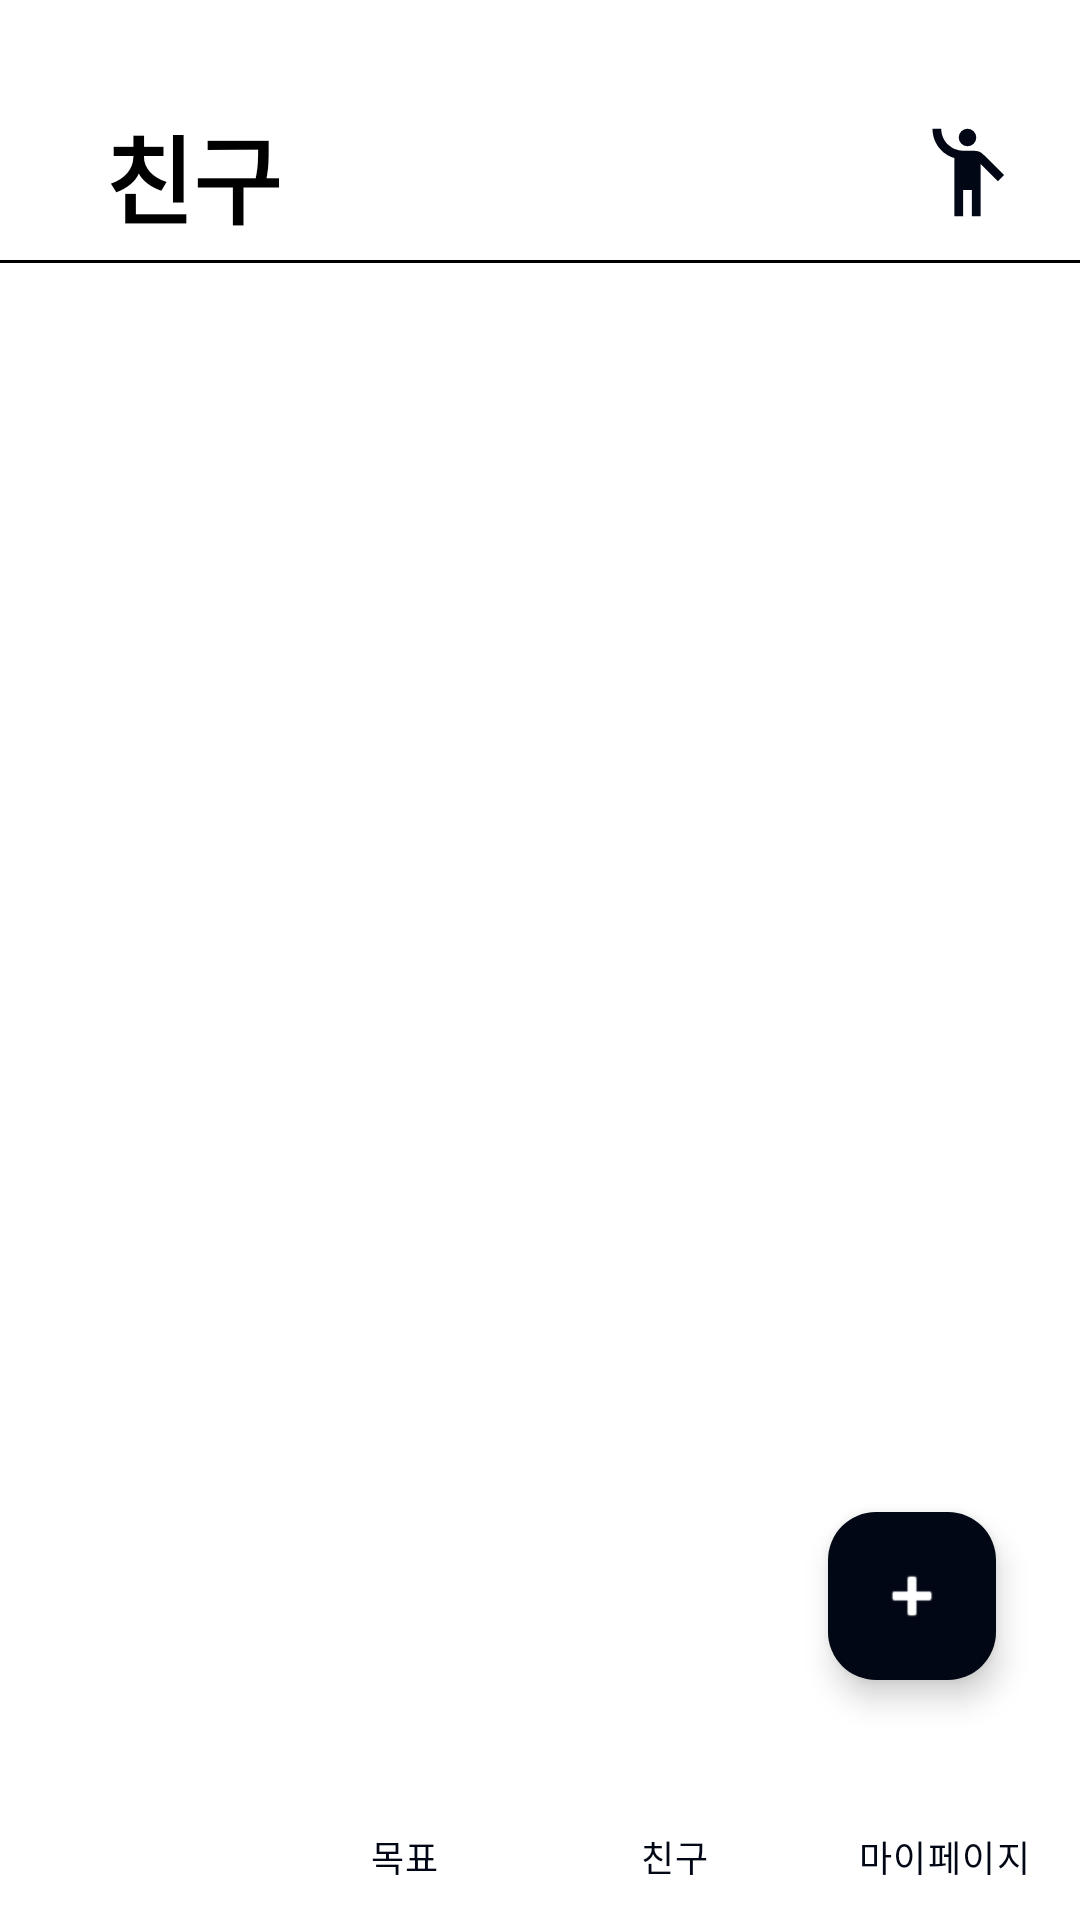

Where to tap for icons on this 1080px x 1920px app screen, as point (x, y):
add: point (912, 1596)
emoji people: point (968, 172)
